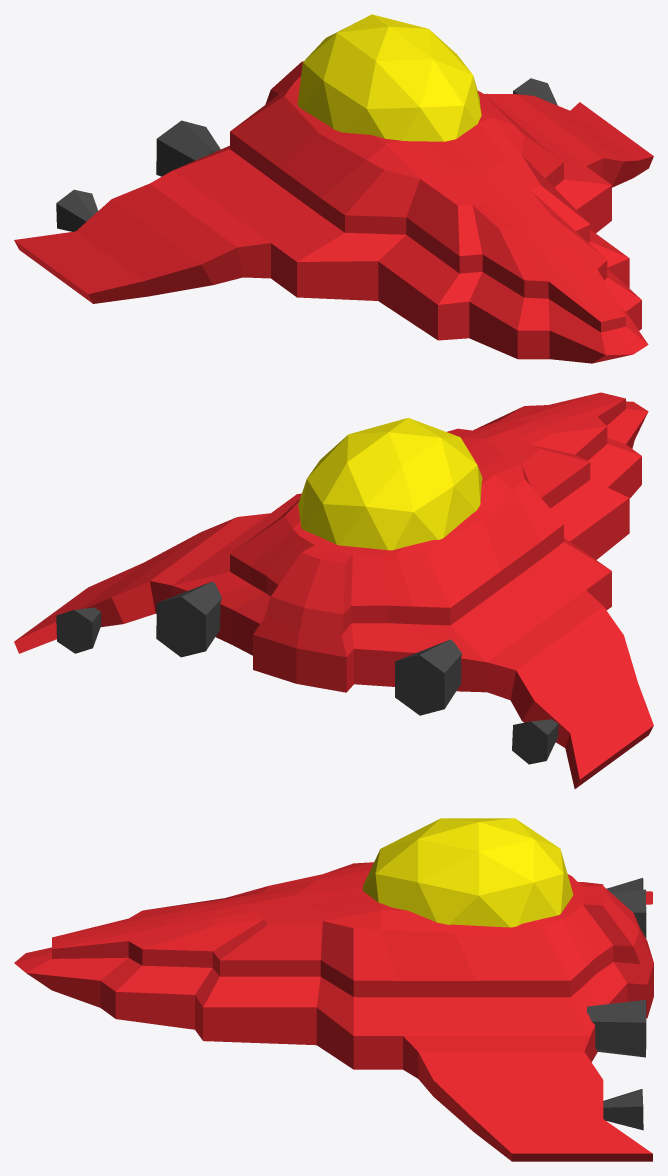
Rendered from Pandora.fbx.
3 views of the same model, one above another, from view 1: azimuth 30°, elevation 25°; view 2: azimuth 150°, elevation 25°; view 3: azimuth 270°, elevation 25° (orthographic). The views are drawn at different scales.
Parts seen in each view (by area): view 1: Cuerpo, Capsula, Motores; view 2: Cuerpo, Capsula, Motores; view 3: Cuerpo, Capsula, Motores.
Boxes of the visible parts, x1,y1,x2,y2 form: Cuerpo: (14, 61, 653, 363); Capsula: (297, 14, 481, 141); Motores: (56, 78, 557, 231); Cuerpo: (14, 392, 653, 788); Capsula: (298, 418, 482, 550); Motores: (56, 581, 558, 764); Cuerpo: (14, 862, 653, 1161); Capsula: (362, 818, 573, 927); Motores: (586, 878, 646, 1130).
Bounding box in the file's own units: 286 × 107 × 295.
